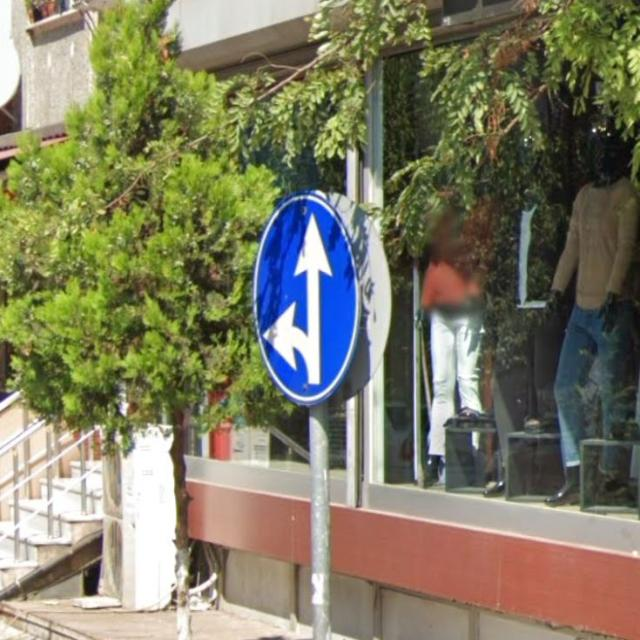ilerisol: (253, 193, 359, 402)
